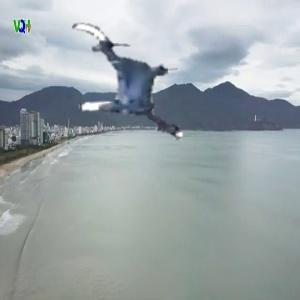drone: (51, 12, 191, 152)
